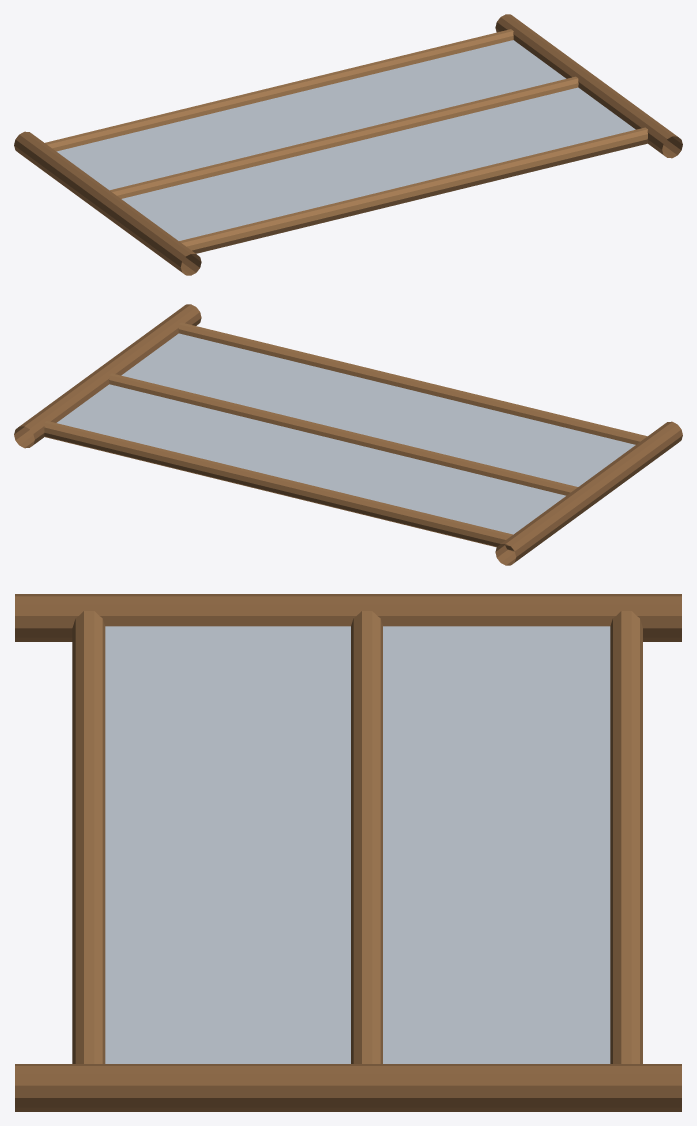
Rendered from farm_fence_section.obj.
3 views of the same model, one above another, from view 1: azimuth 30°, elevation 25°; view 2: azimuth 150°, elevation 25°; view 3: azimuth 270°, elevation 25° (orthographic). The views are drawn at different scales.
Size of the model in its own units: 3.13 by 0.13 by 1.8.
